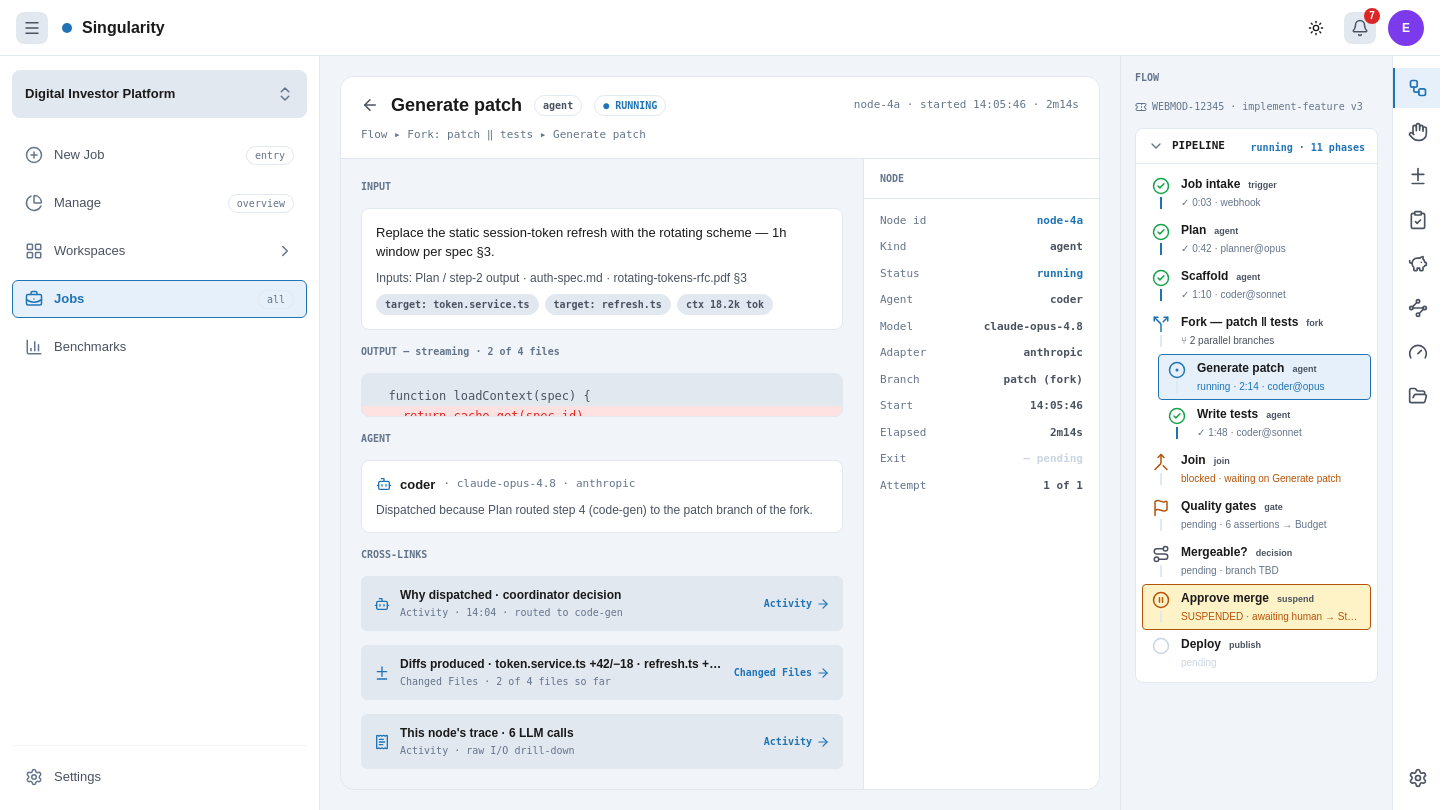
it: Job detail with ActivityRail › toggles the pane when the active rail section is clicked
The width and height of the screenshot is (1452, 810).
Check: the text "Job intake" is shown, box x1=1181 y1=176 x2=1240 y2=192
What coordinates should you click on to do the following:
click the button named "Flow"
I would click on:
 (1416, 88)
Its box is x1=1393 y1=68 x2=1440 y2=108.
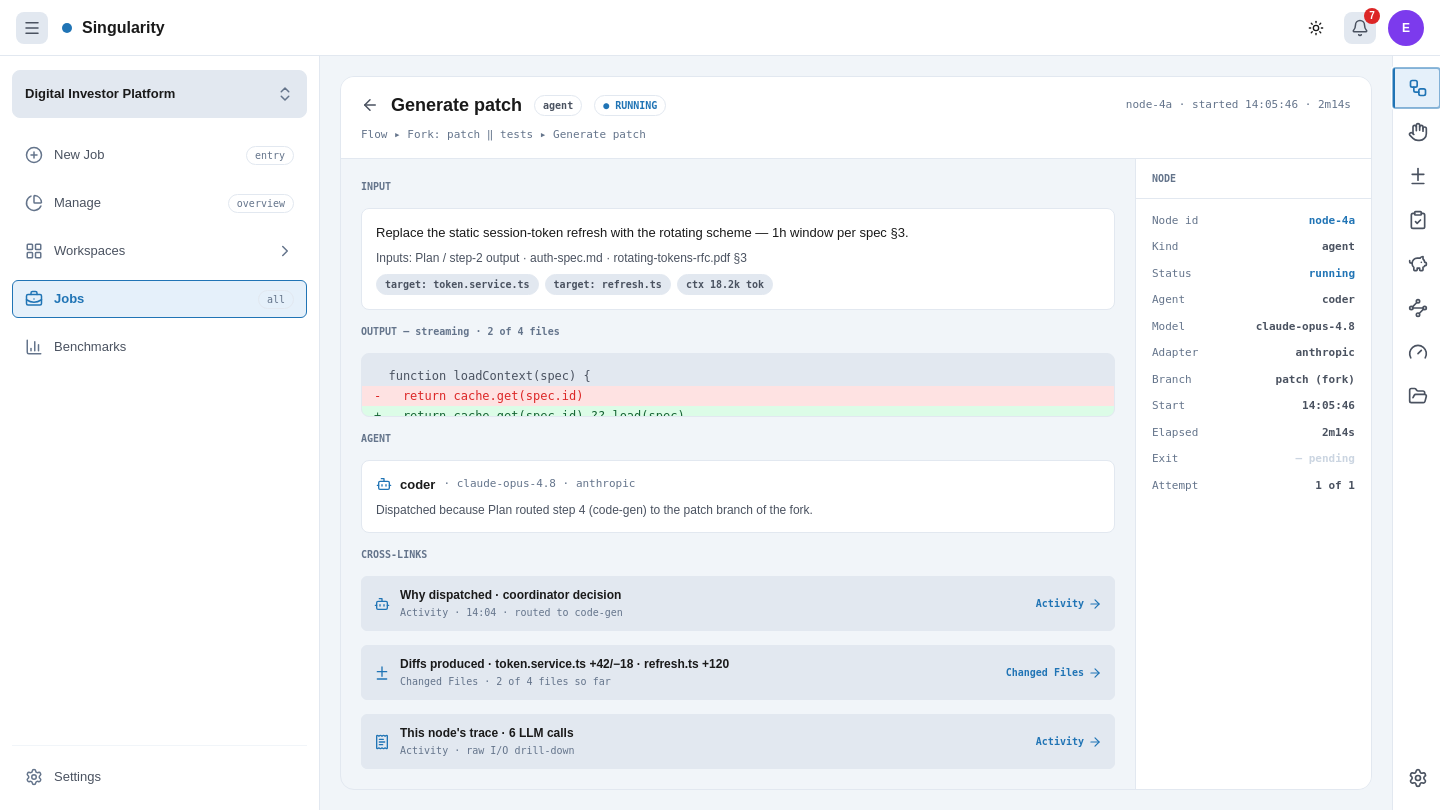
Check: the button "Job intake" is gone
What coordinates should you click on to do the following:
click the button named "Flow"
I would click on:
 (1416, 88)
Its box is x1=1393 y1=68 x2=1440 y2=108.
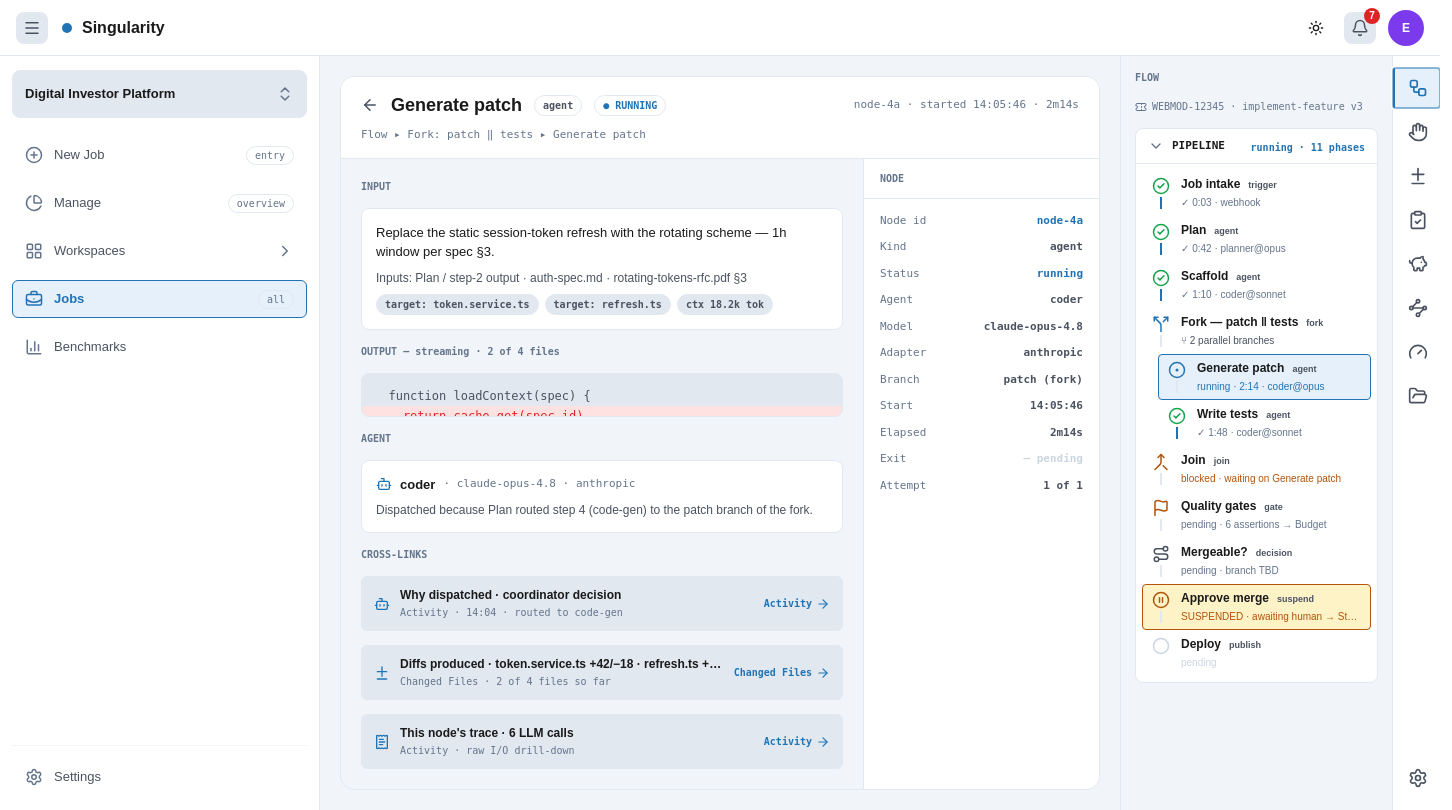
Check: the text "Job intake" is shown, box x1=1181 y1=176 x2=1240 y2=192
